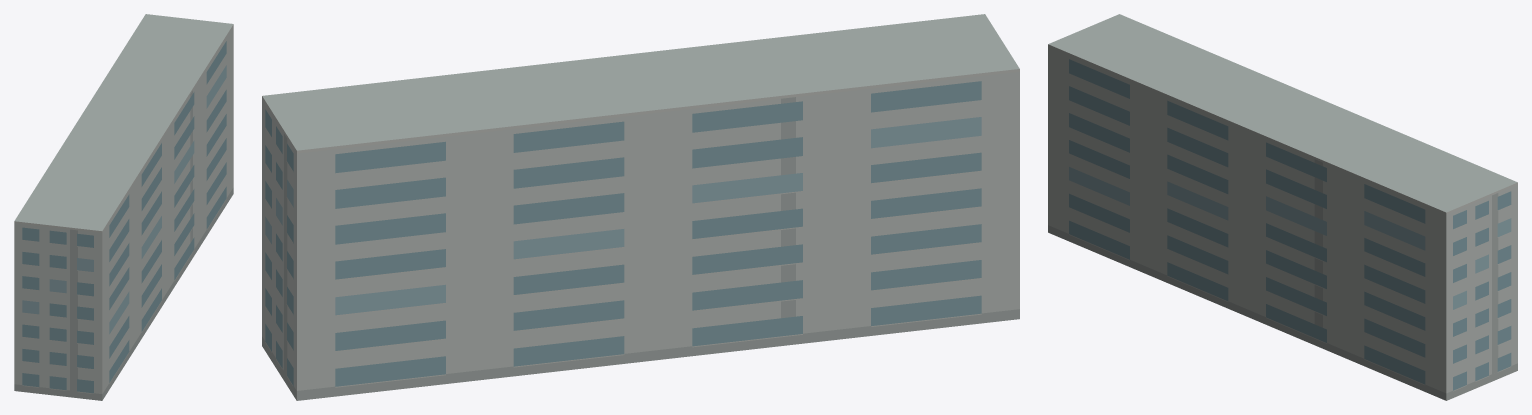
The model's file is residential-ec3796ec-85bb-4316-b604-a69349ab80b7.glb.
The picture shows the model from 3 angles, left to right: view 1: azimuth 30°, elevation 25°; view 2: azimuth 150°, elevation 25°; view 3: azimuth 270°, elevation 25°; orthographic projection. The views are drawn at different scales.
Visible parts, largest first — view 1: residential-ec3796ec-85bb-4316-b604-a69349ab80b7.tmp; view 2: residential-ec3796ec-85bb-4316-b604-a69349ab80b7.tmp; view 3: residential-ec3796ec-85bb-4316-b604-a69349ab80b7.tmp.
Part boxes in pixels (box(x1,y1,x2,y2)): residential-ec3796ec-85bb-4316-b604-a69349ab80b7.tmp: box(14, 14, 233, 400); residential-ec3796ec-85bb-4316-b604-a69349ab80b7.tmp: box(262, 14, 1019, 400); residential-ec3796ec-85bb-4316-b604-a69349ab80b7.tmp: box(1048, 14, 1517, 400).
Size of the model in its own units: 48.28 by 21.35 by 48.28.
